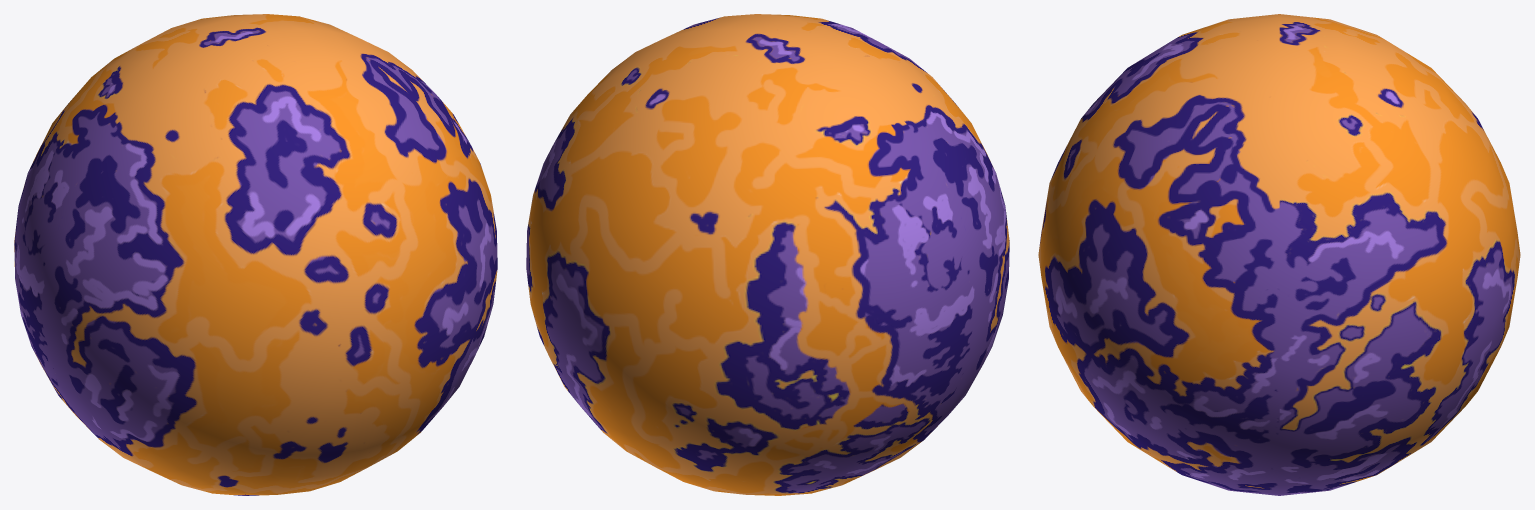
Rendered from Planet_OrangePurple.fbx.
3 renders of one model, left to right at view 1: azimuth 30°, elevation 25°; view 2: azimuth 150°, elevation 25°; view 3: azimuth 270°, elevation 25°, orthographic.
Parts seen in each view (by area): view 1: Planet_2; view 2: Planet_2; view 3: Planet_2.
Part boxes in pixels (<box>): Planet_2: <box>14,14,497,495</box>; Planet_2: <box>526,14,1009,495</box>; Planet_2: <box>1038,14,1520,495</box>.
Bounding box in the file's own units: 5.83 × 5.83 × 5.84.
Materials: 1 (1 with a texture image).
